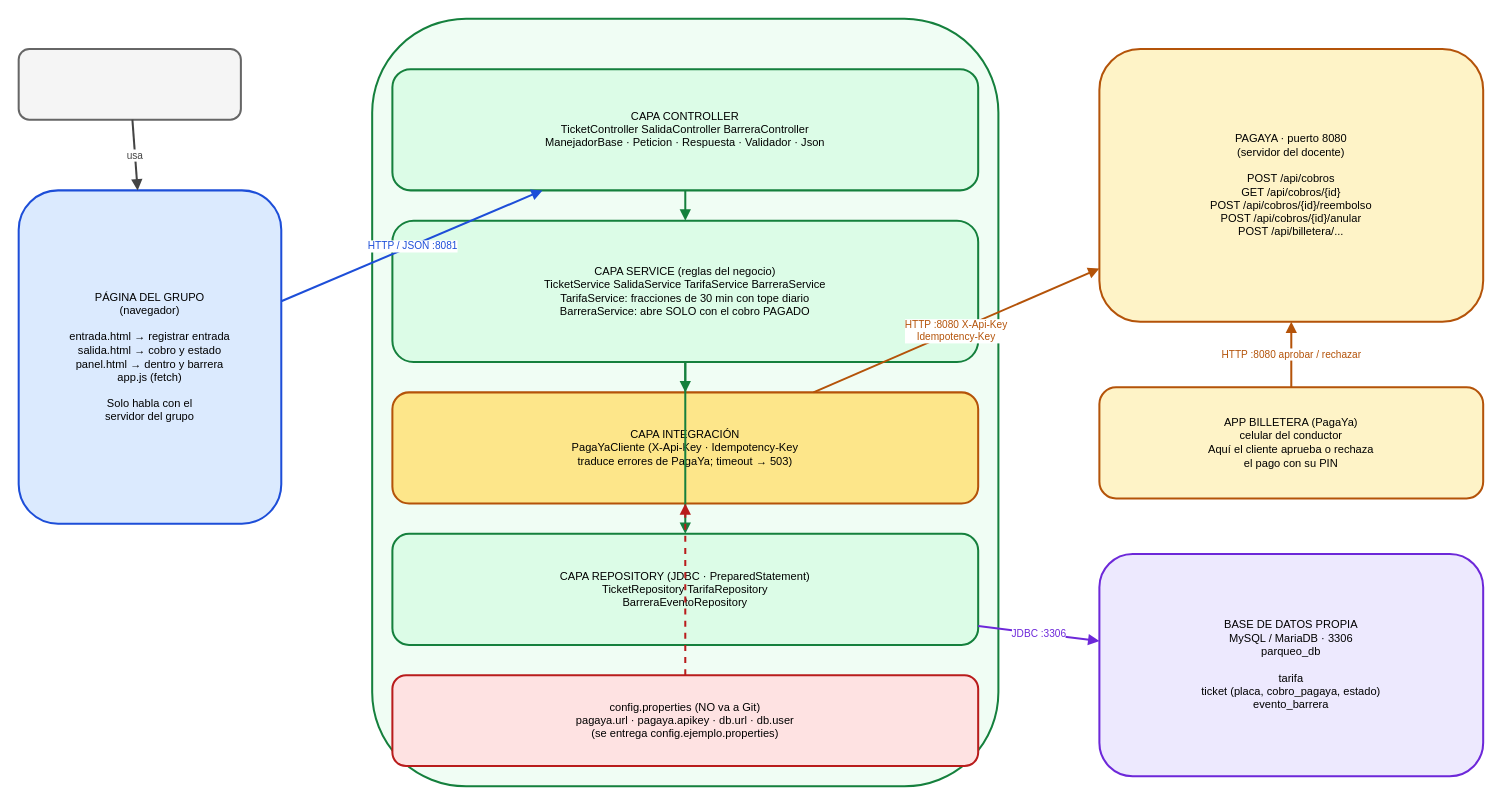
Image size: 1501x804. Some labels were removed from this diagram. The box of each missing label's shape, as (x1, y1, x2, y2) in pixels:
Conductor / Operador: (17, 47, 241, 120)
SERVIDOR DEL GRUPO · Java 8 · puerto 8081: (371, 17, 999, 787)
